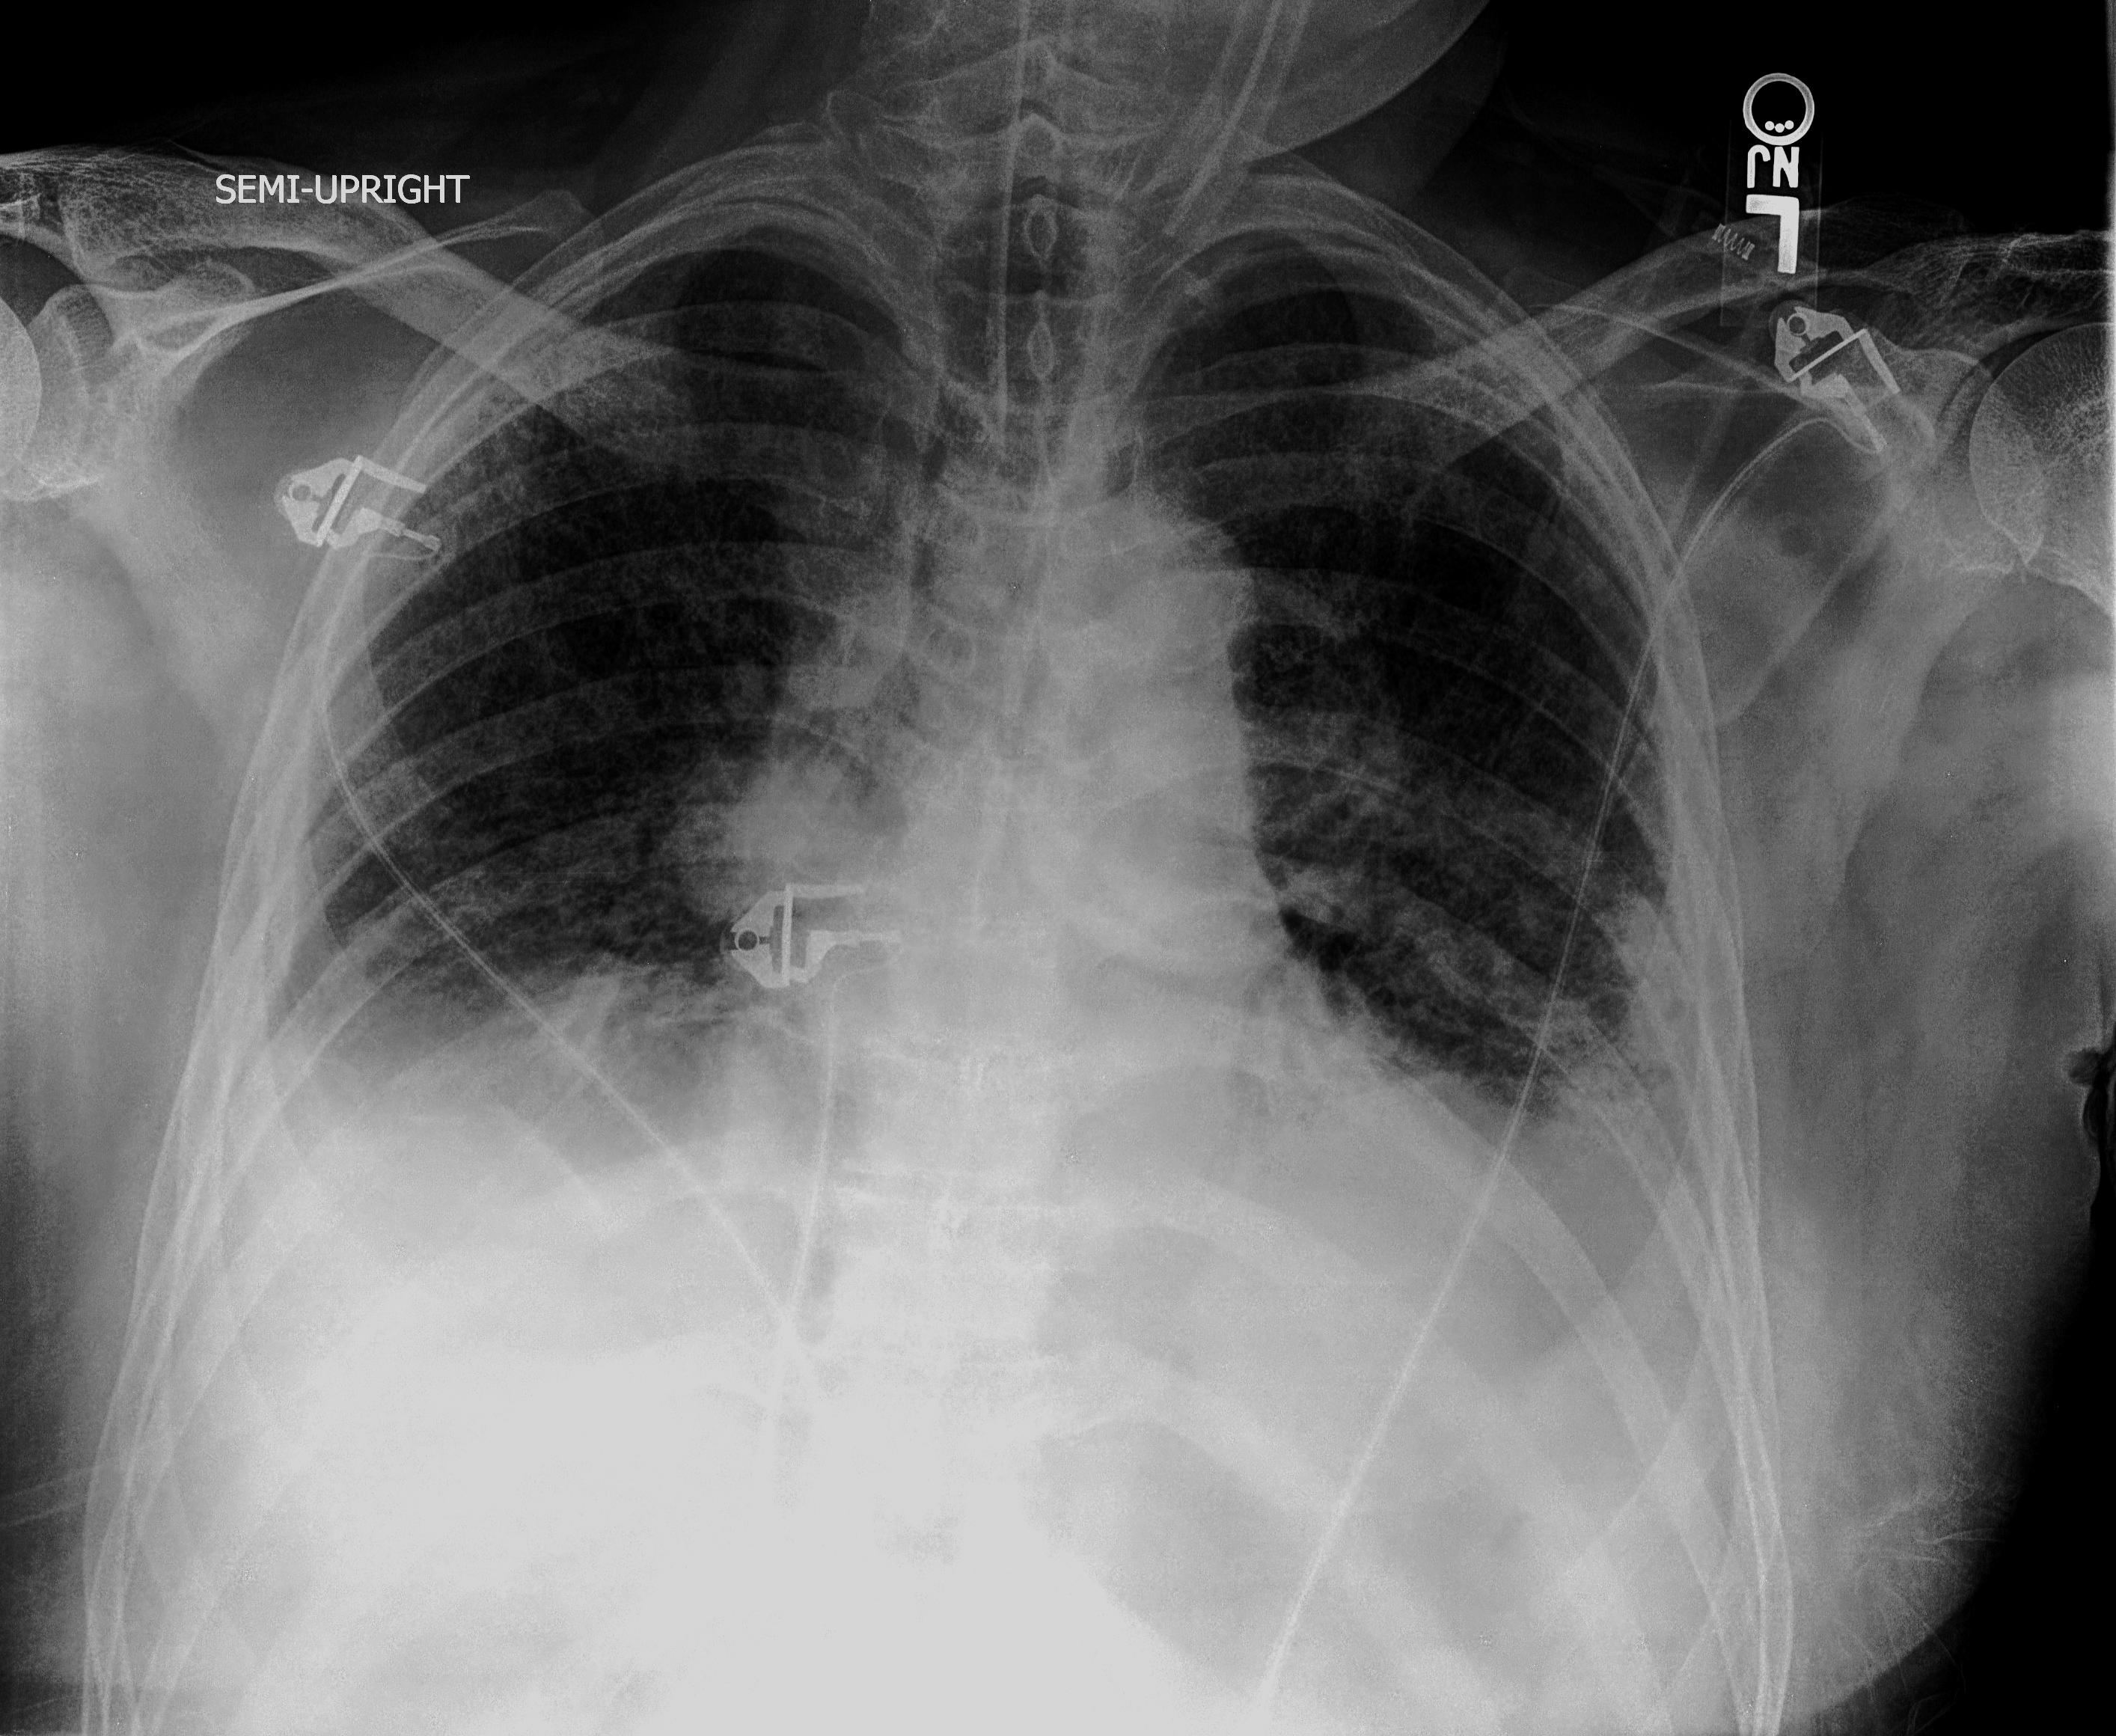Pleural Effusion: (1286, 991, 1815, 1411), (158, 963, 656, 1304)
